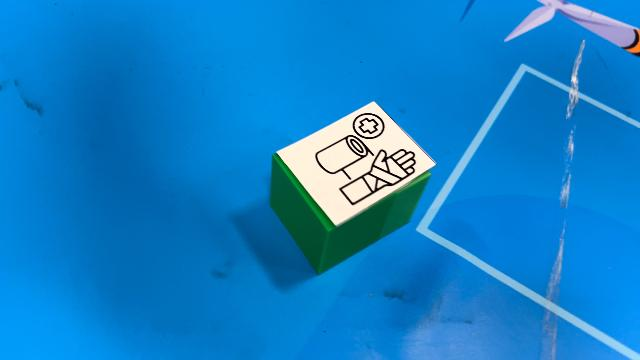bandage: (268, 100, 438, 274)
